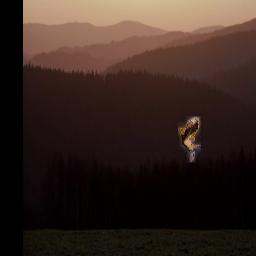Sparrow: (179, 117, 202, 162)
